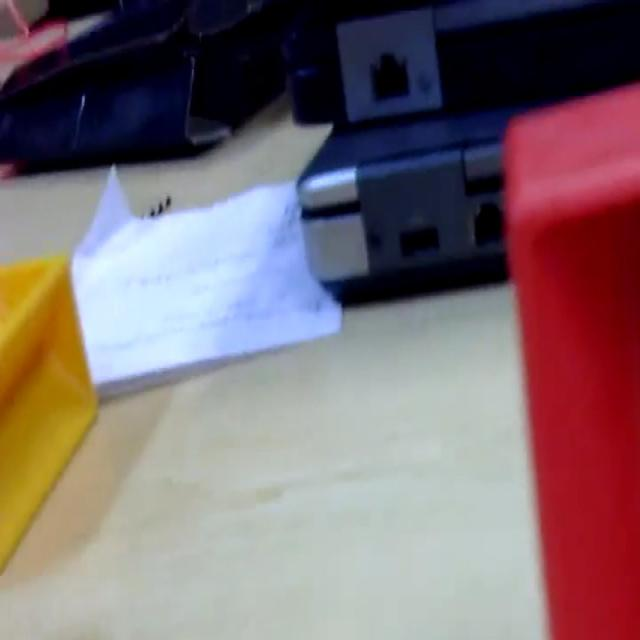red_block: (501, 79, 639, 636)
yellow_block: (0, 251, 99, 573)
